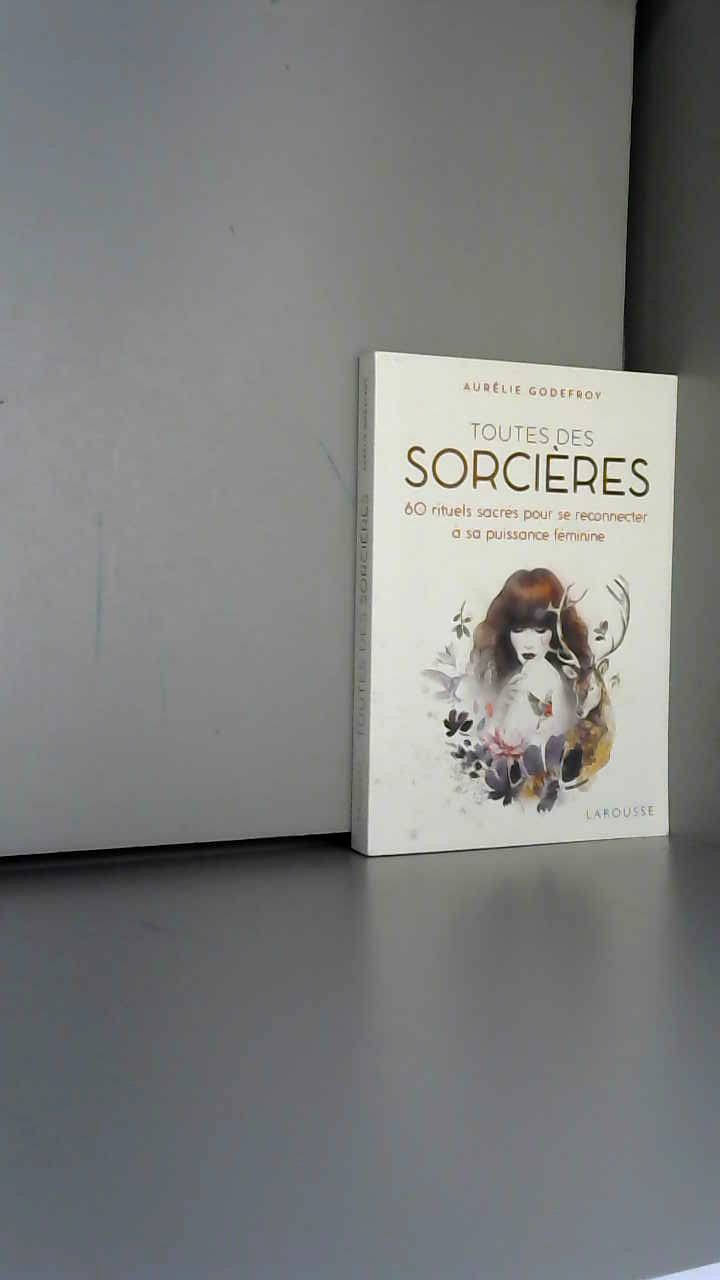book: (340, 320, 717, 915)
